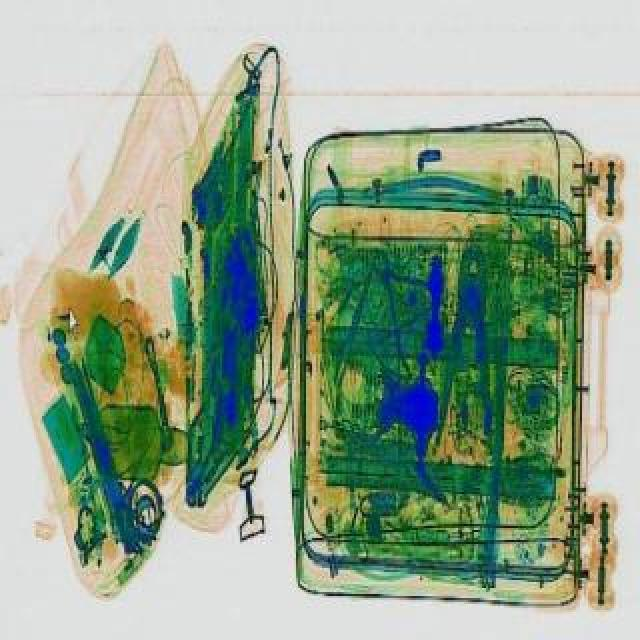wrench: (346, 238, 472, 378), (436, 244, 500, 444)
